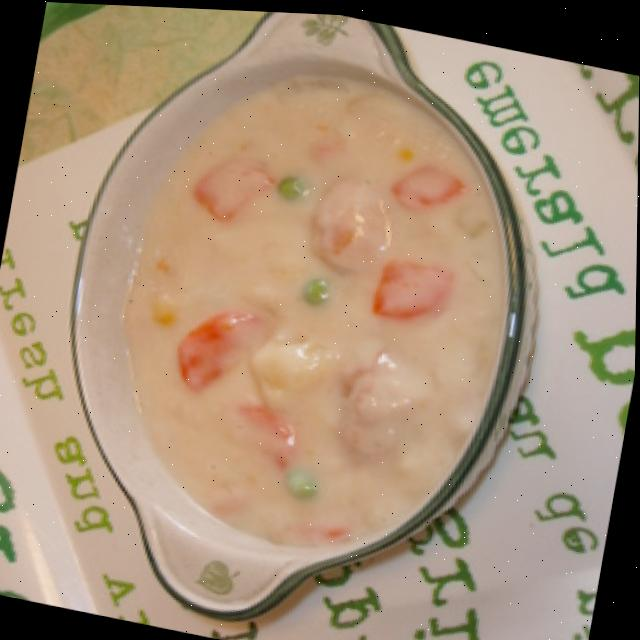汤锅炖物: (20, 1, 571, 640)
